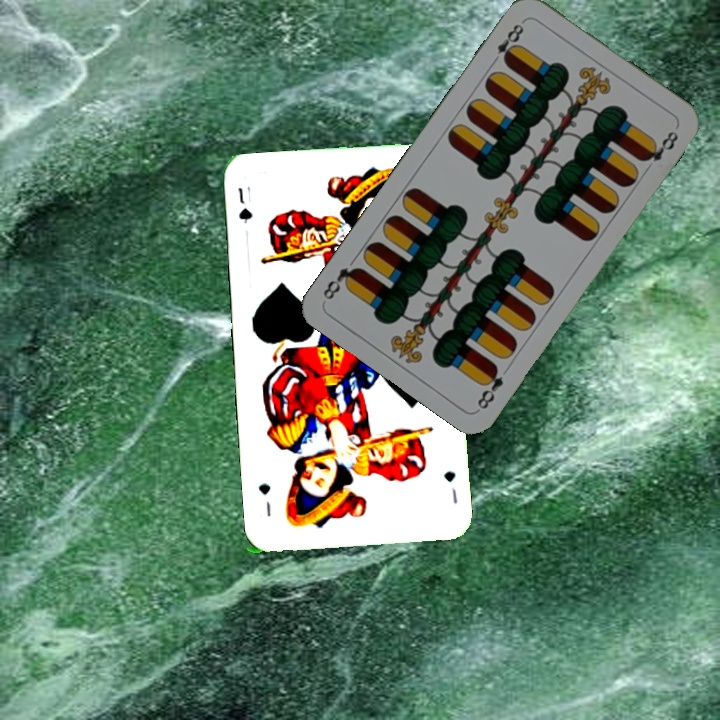E8: (487, 16, 528, 67), (473, 361, 506, 412)
GU: (234, 183, 255, 226), (440, 467, 460, 506)
